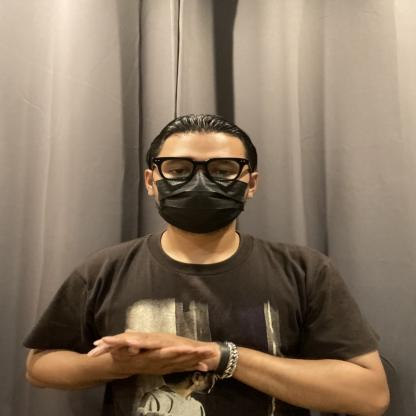Love: (74, 302, 301, 390)
